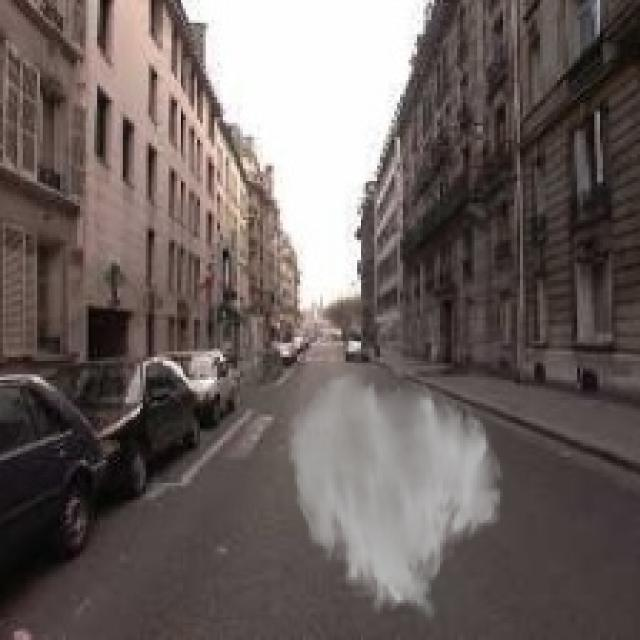smoke: (286, 368, 506, 623)
